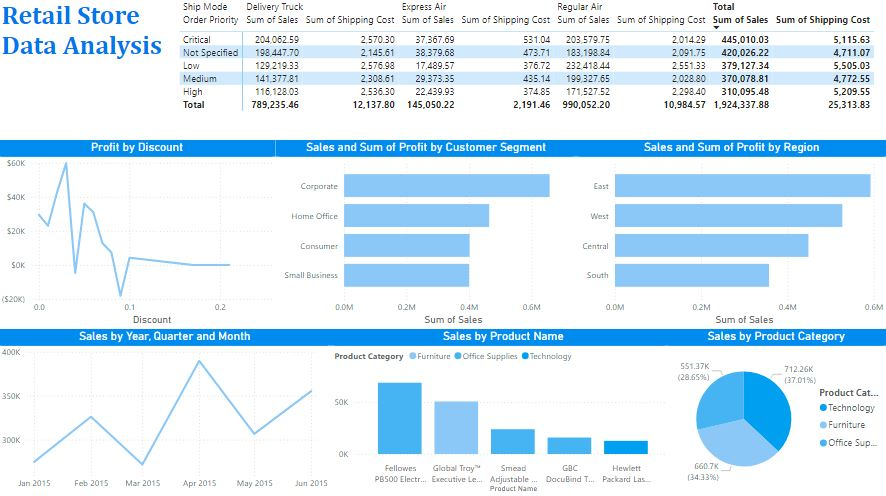

Layout of this report page (visuals, bound fields, positions):
{"tool":"powerbi","page":{"name":"Page 1","canvas":[1280,720],"ordinal":0},"visuals":[{"type":"textbox","box":[0,0,256,144],"z":0},{"type":"lineChart","title":"Sales by Year, Quarter and Month","fields":{"Y":["Sum(Orders.Sales)"],"Category":["Orders.Order Date.Variation.Date Hierarchy.Year","Orders.Order Date.Variation.Date Hierarchy.Quarter","Orders.Order Date.Variation.Date Hierarchy.Month","Orders.Order Date.Variation.Date Hierarchy.Day"]},"box":[0,480,480,240],"z":1000},{"type":"columnChart","title":"Sales by Product Name","fields":{"Category":["Orders.Product Name"],"Y":["Sum(Orders.Sales)"],"Series":["Orders.Product Category"]},"box":[480,480,496,240],"z":2000},{"type":"pieChart","title":"Sales by Product Category","fields":{"Y":["Sum(Orders.Sales)"],"Category":["Orders.Product Category"]},"box":[960,480,320,240],"z":3000},{"type":"clusteredBarChart","title":"Sales and Sum of Profit by Customer Segment","fields":{"Category":["Orders.Customer Segment"],"Y":["Sum(Orders.Sales)"]},"box":[400,208,432,272],"z":4000},{"type":"clusteredBarChart","title":"Sales and Sum of Profit by Region","fields":{"Y":["Sum(Orders.Sales)"],"Category":["Orders.Region"]},"box":[832,208,448,272],"z":5000},{"type":"lineChart","title":"Profit by Discount","fields":{"Category":["Orders.Discount"],"Y":["Sum(Orders.Profit)"]},"box":[0,208,400,272],"z":6000},{"type":"pivotTable","fields":{"Rows":["Orders.Order Priority"],"Values":["Sum(Orders.Sales)","Sum(Orders.Shipping Cost)"],"Columns":["Orders.Ship Mode"]},"box":[256,0,1024,208],"z":7000}]}

Visuals, with their boxes in screenshot pixels (x1, y1, x2, y2), scaled from the page's 1280x720 canvas onto the 886x496 screenshot:
textbox: region(0, 0, 177, 99)
"Sales by Year, Quarter and Month" lineChart: region(0, 331, 332, 495)
"Sales by Product Name" columnChart: region(332, 331, 676, 495)
"Sales by Product Category" pieChart: region(664, 331, 885, 495)
"Sales and Sum of Profit by Customer Segment" clusteredBarChart: region(277, 143, 576, 331)
"Sales and Sum of Profit by Region" clusteredBarChart: region(576, 143, 885, 331)
"Profit by Discount" lineChart: region(0, 143, 277, 331)
pivotTable - Orders.Order Priority x Sum(Orders.Sales): region(177, 0, 885, 143)
